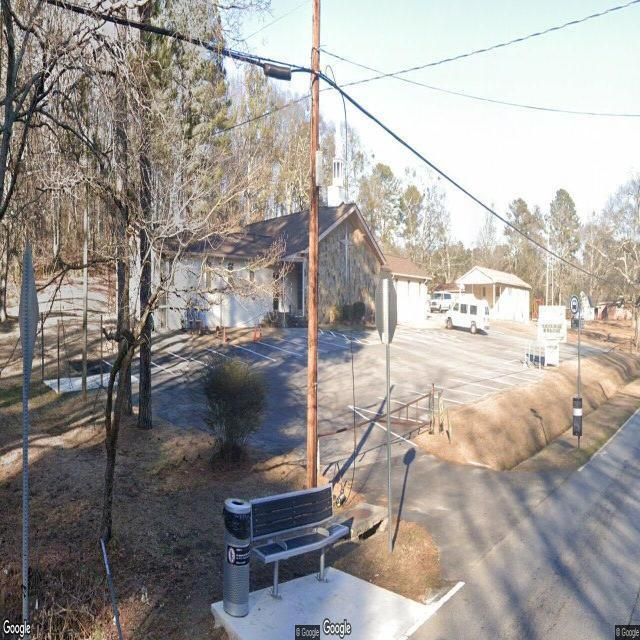seating: (249, 482, 350, 600)
trash_can: (222, 497, 252, 617), (572, 396, 582, 436)
